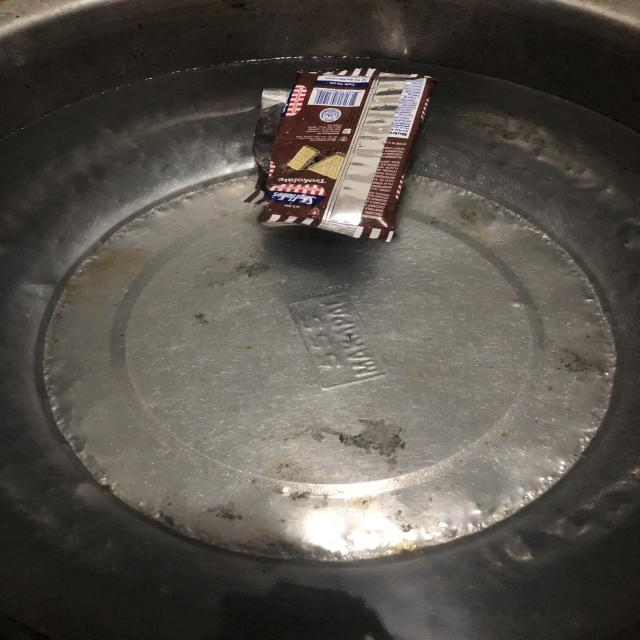Plastic Wrapper: (209, 33, 472, 270)
